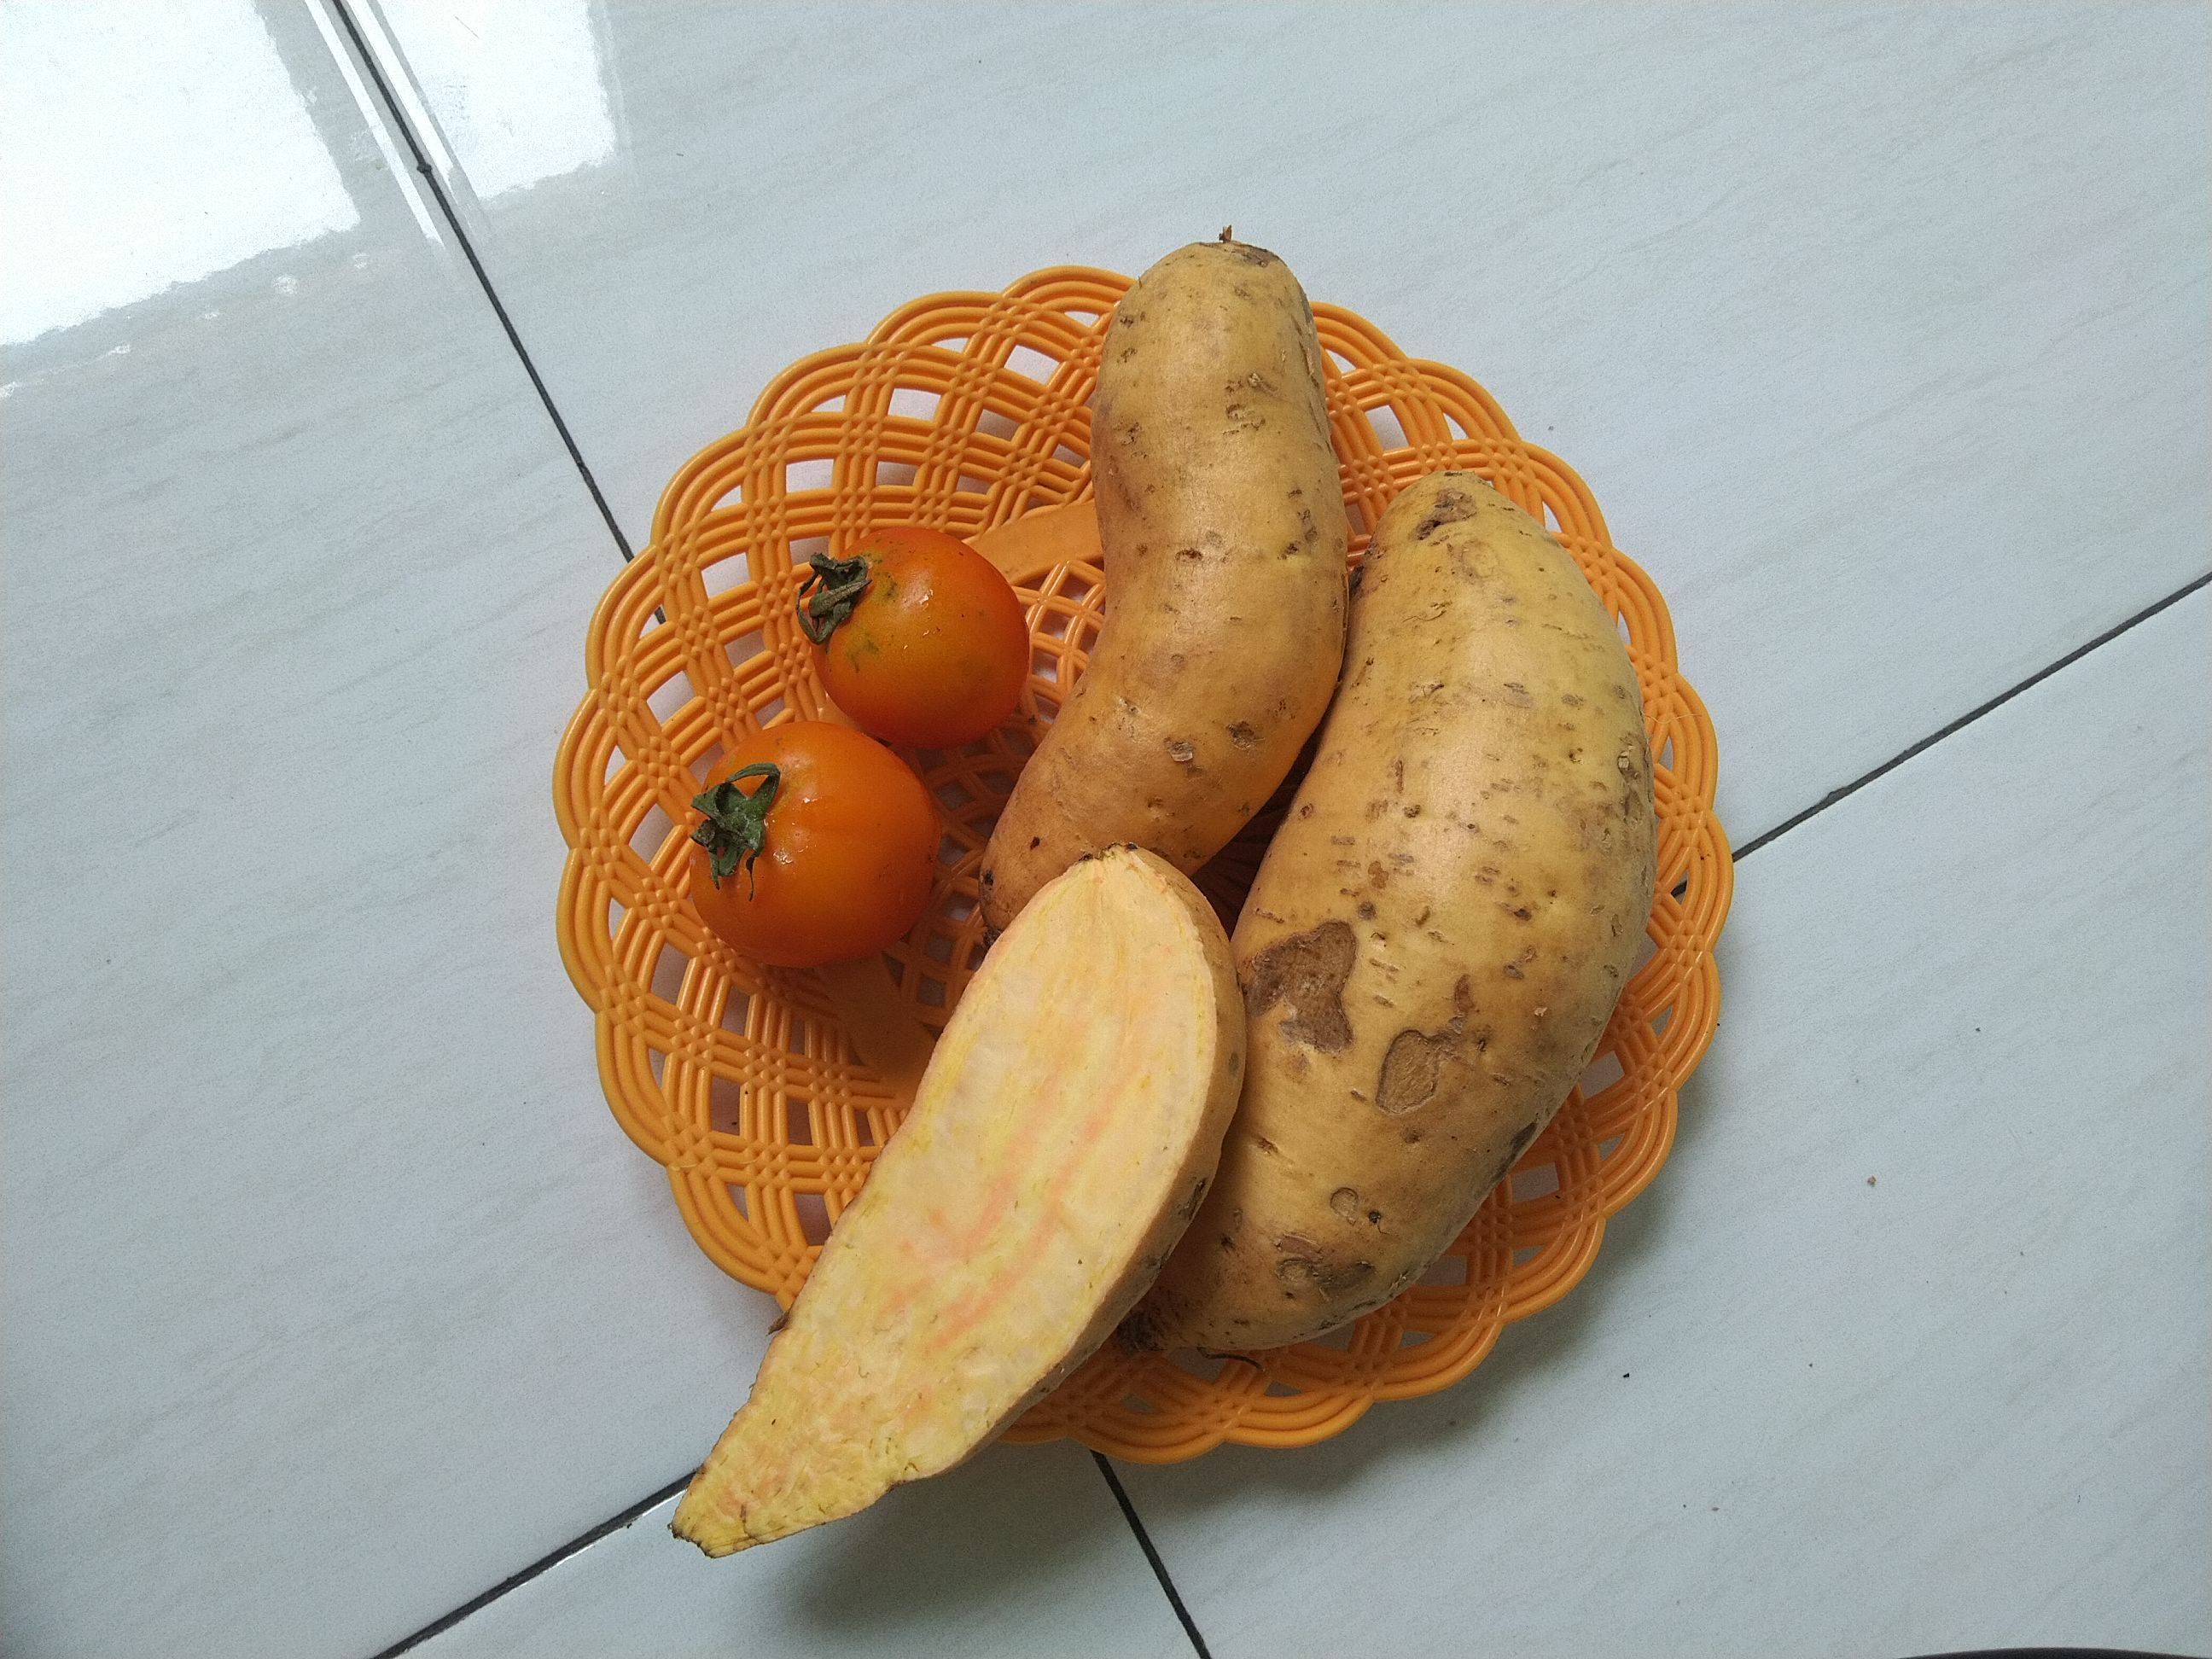ubi cilembu: (1122, 455, 1632, 1364), (697, 852, 1238, 1568), (982, 218, 1350, 925)
